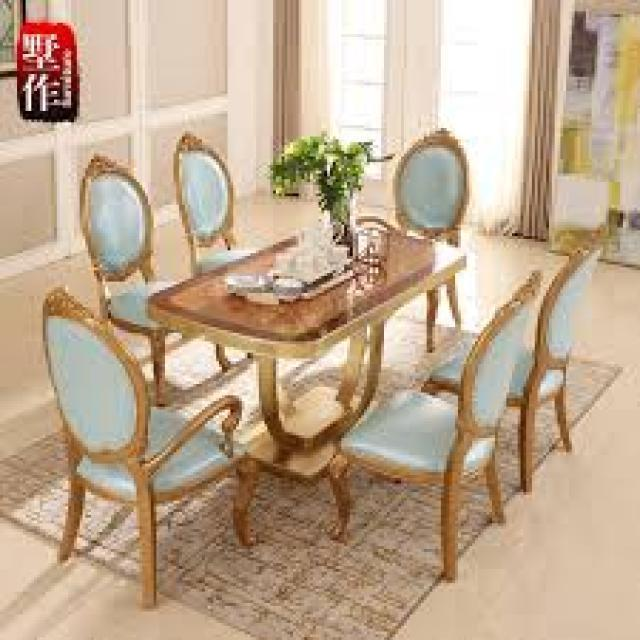table: (32, 122, 582, 608)
